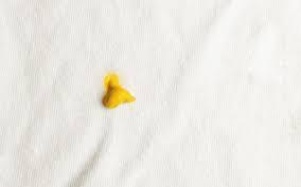mustard: (99, 76, 131, 113)
